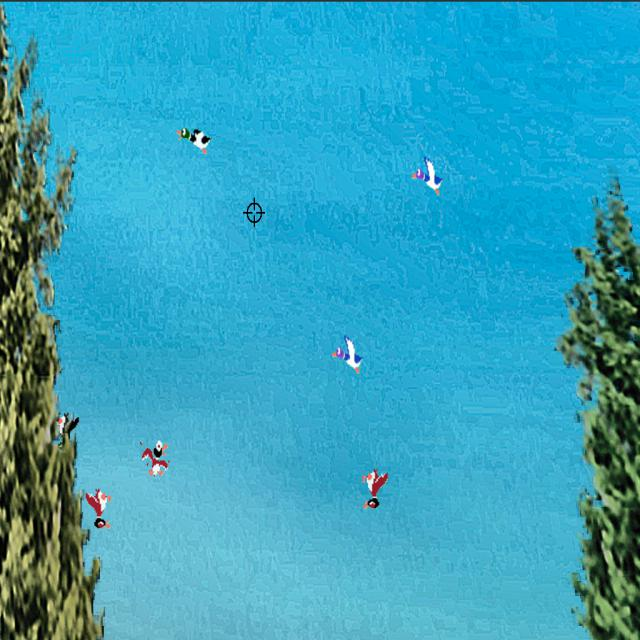duck: (408, 152, 447, 199), (328, 332, 369, 376), (178, 121, 214, 163), (362, 463, 389, 518)
falling_duck: (84, 478, 117, 534), (137, 434, 171, 482), (55, 408, 78, 452)
